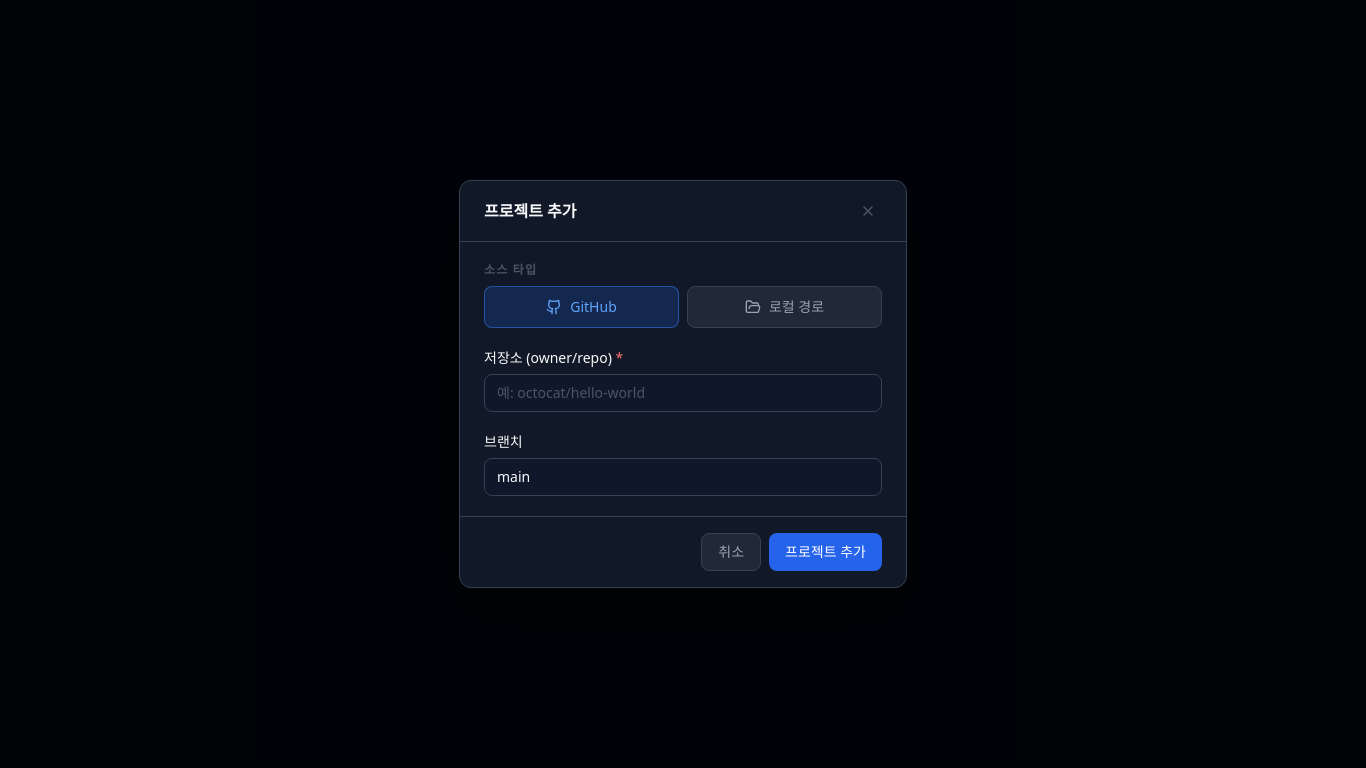
Test: AddProjectDialog › GitHub repo 형식 오류 시 오류 메시지가 표시된다
The image size is (1366, 768).
Step 1. Type "invalid-format" into the field with test id "input-repo" → (683, 393), box left=484, top=374, right=882, bottom=412
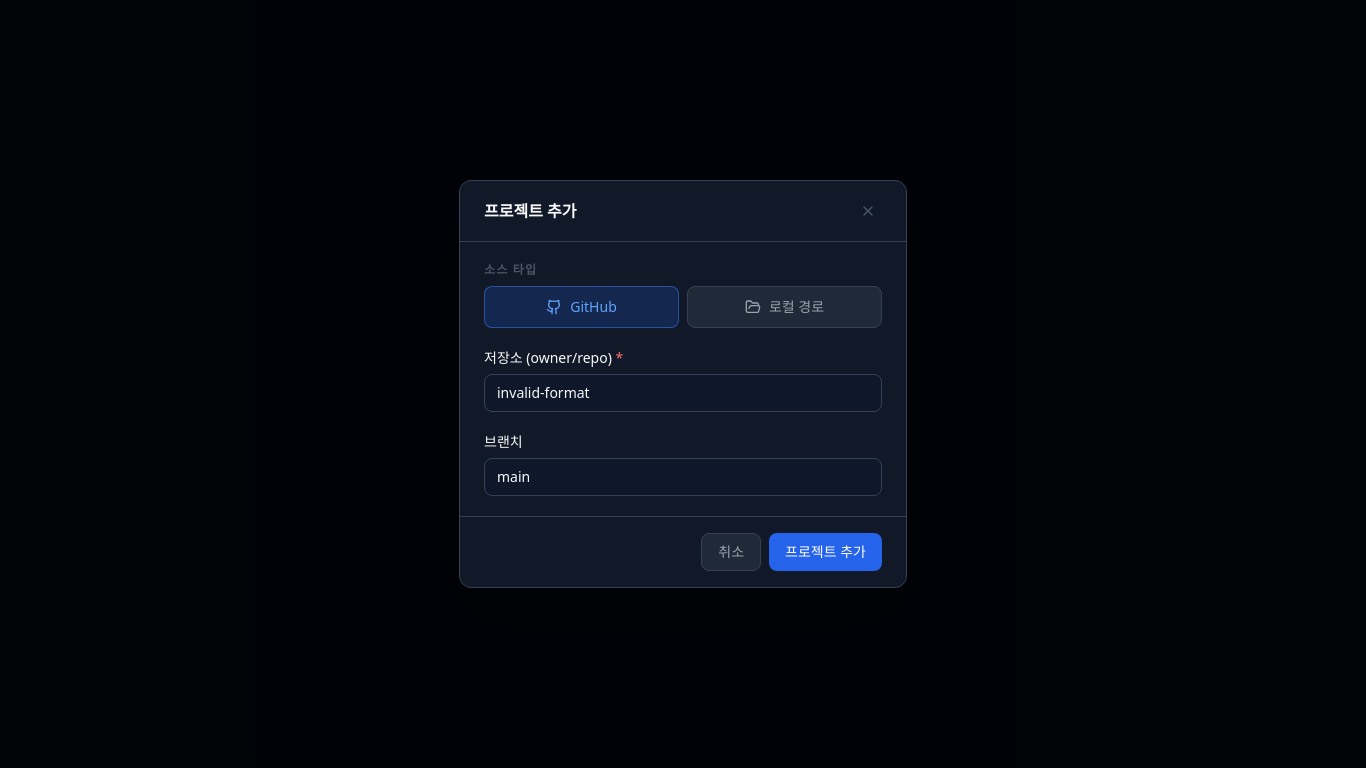
Step 2. Click the button with test id "dialog-submit-button" → (826, 552), box left=769, top=533, right=882, bottom=571
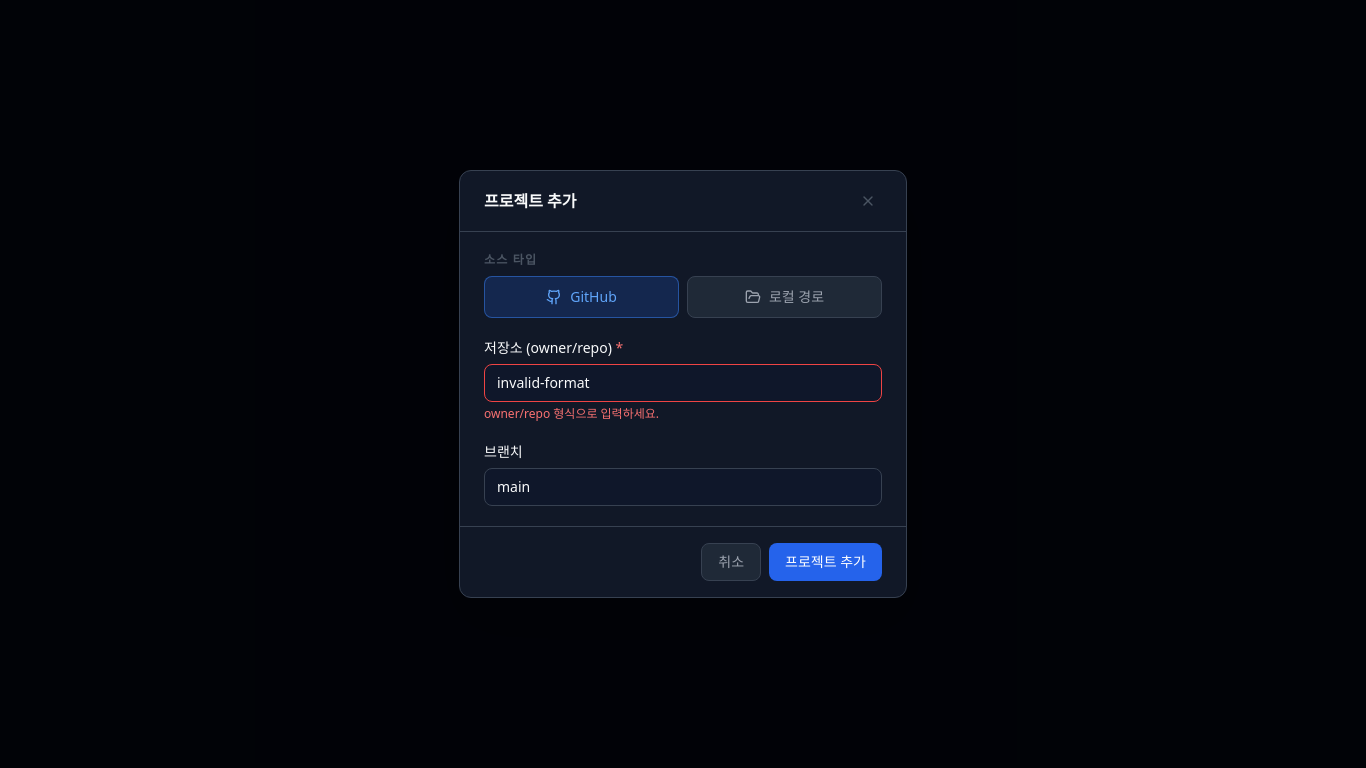
Result: the text "owner/repo 형식으로 입력하세요." is shown at left=484, top=405, right=659, bottom=422
